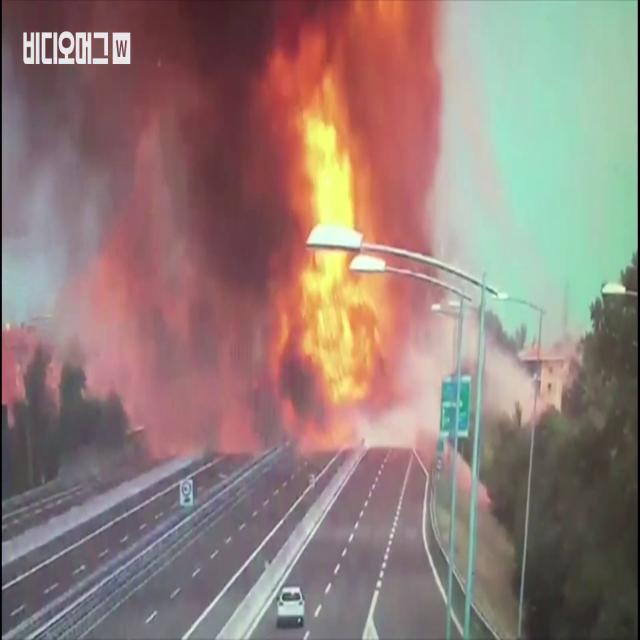explosion: (69, 12, 546, 561)
